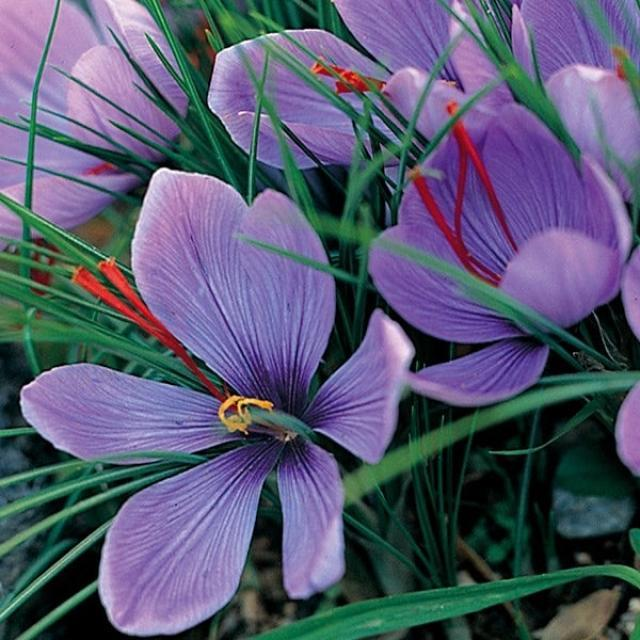Flower: (25, 171, 416, 633), (213, 0, 640, 172), (398, 108, 640, 404), (0, 0, 186, 222)
stigma: (72, 240, 226, 402), (445, 98, 522, 255), (298, 56, 388, 102)
